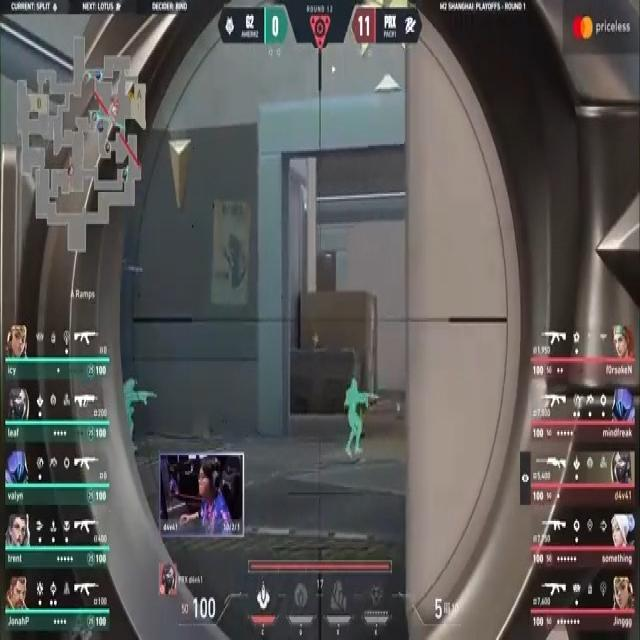ally behind wall: (343, 372, 380, 461), (122, 374, 155, 439)
